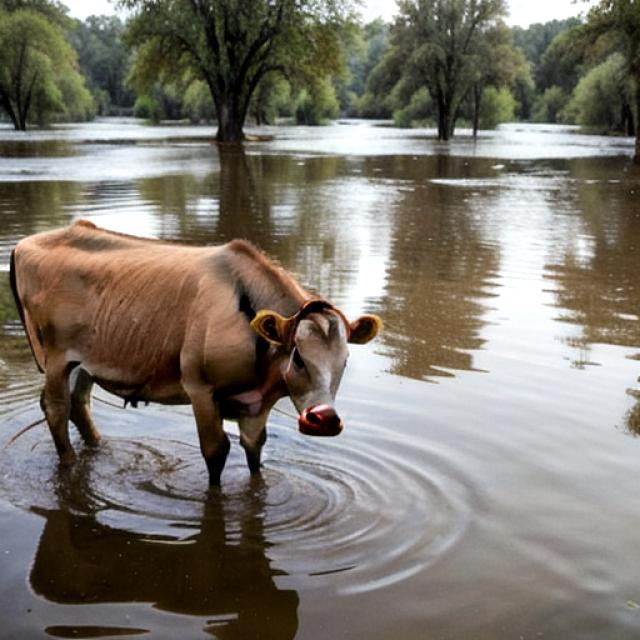cow: (9, 201, 388, 505)
